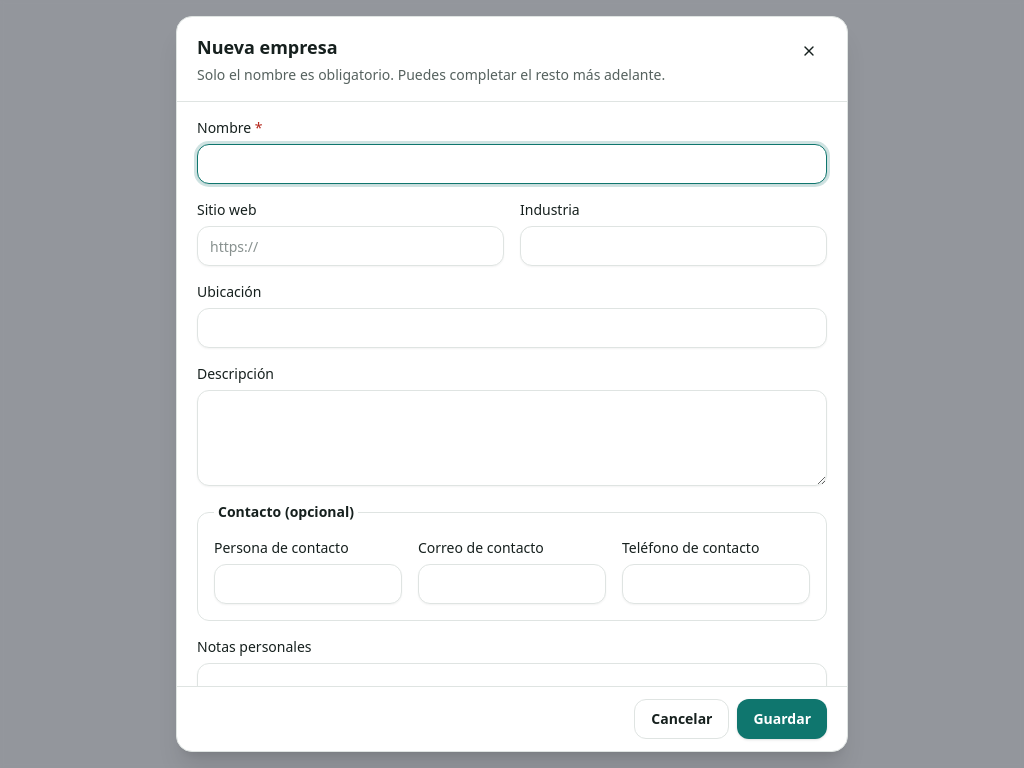
Scenario: company form › sends empty optional fields as null and closes on success
The width and height of the screenshot is (1024, 768).
Type "  Acme  " into the field labelled "Nombre *" at (512, 164), box 197,144 -> 827,184
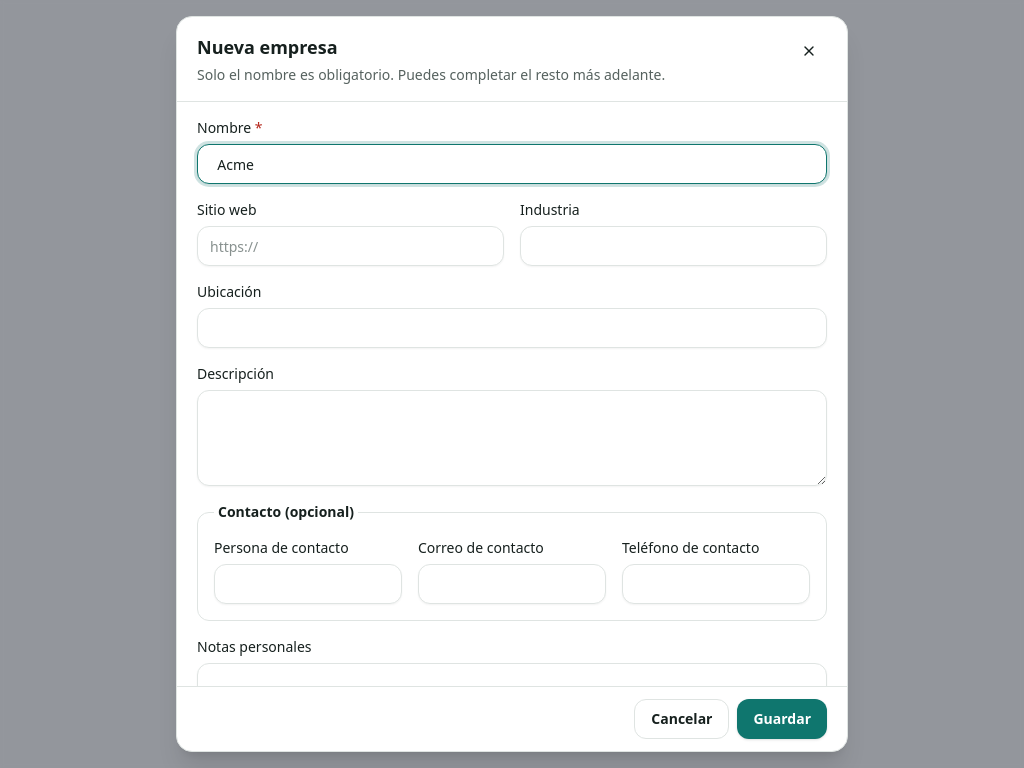
Click the button "Guardar" at (782, 719), box 738,699 -> 827,739
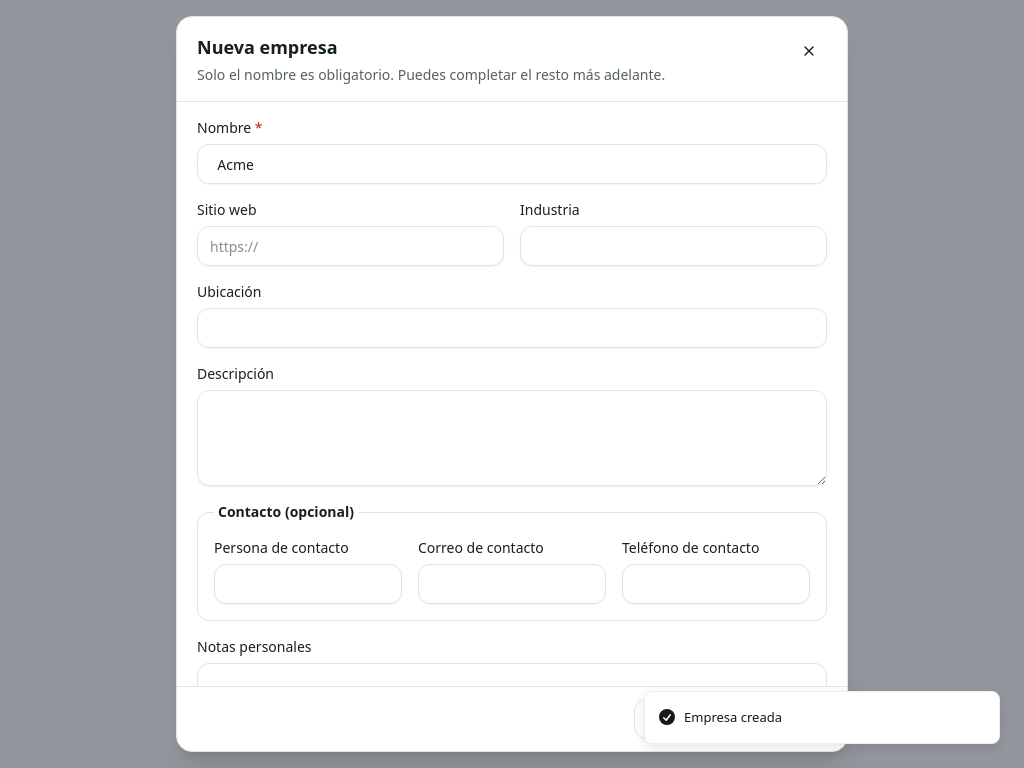
Expected: the text "Empresa creada" is shown, 684,708 -> 782,727
